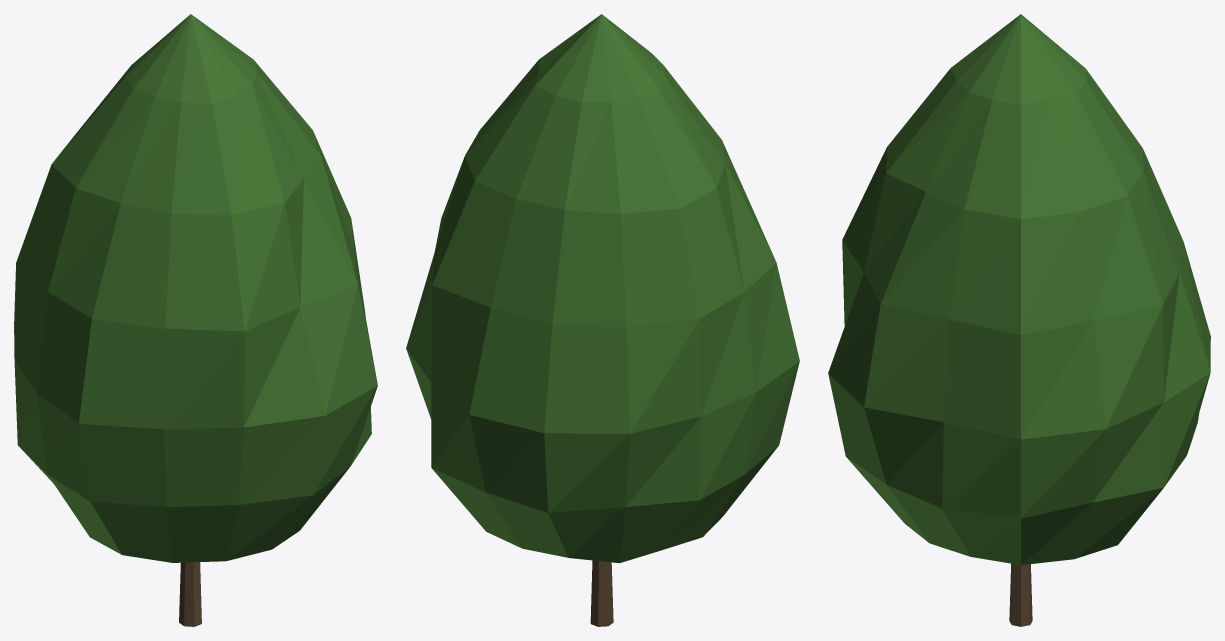
The model's file is upright.L1.8003c95f.glb.
3 views of the same model, side by side, from view 1: azimuth 30°, elevation 25°; view 2: azimuth 150°, elevation 25°; view 3: azimuth 270°, elevation 25° (orthographic).
Visible parts, largest first — view 1: A-TREES-UPRIGHT; view 2: A-TREES-UPRIGHT; view 3: A-TREES-UPRIGHT.
Part boxes in pixels (x1=…): A-TREES-UPRIGHT: x1=14, y1=14, x2=377, y2=626; A-TREES-UPRIGHT: x1=406, y1=14, x2=799, y2=626; A-TREES-UPRIGHT: x1=828, y1=14, x2=1210, y2=626.
Size of the model in its own units: 5.1 by 9 by 5.13.
